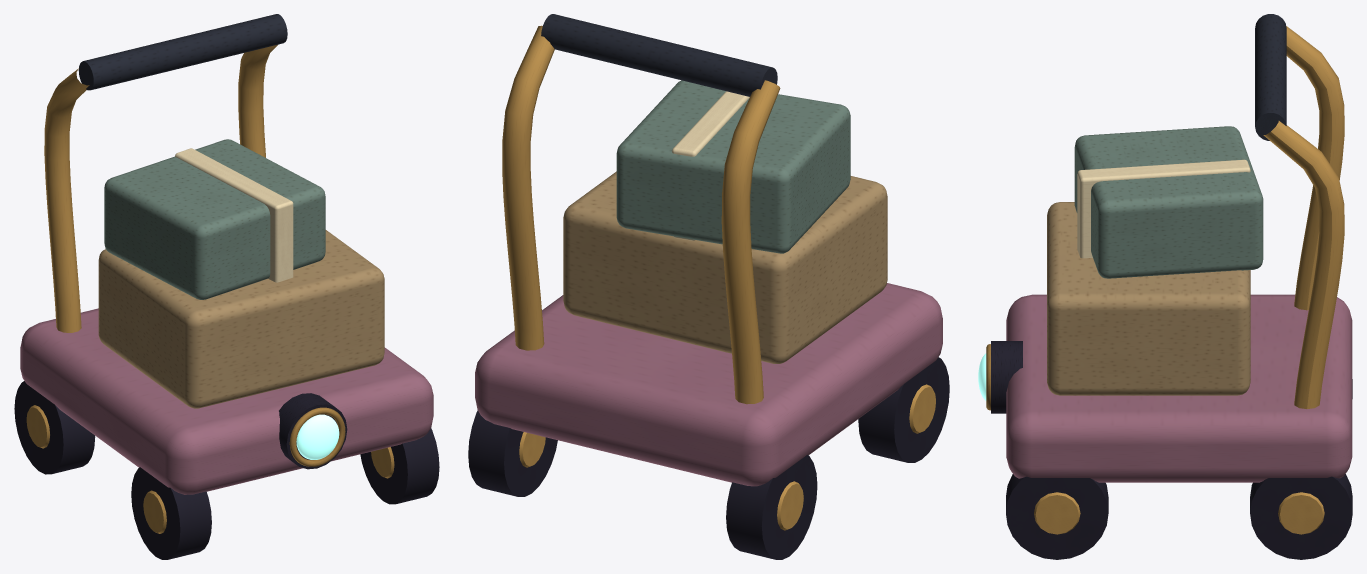
File: dolly.glb
3 renders of one model, left to right at view 1: azimuth 30°, elevation 25°; view 2: azimuth 150°, elevation 25°; view 3: azimuth 270°, elevation 25°, orthographic. The views are drawn at different scales.
Parts seen in each view (by area): view 1: Parcel deck, Lower parcel, Upper parcel, Rubber wheel (×3), Cart handle (×2), Push bar, Strap, Wheel hub (×3), Barrel, Optical glass, Lens bezel; view 2: Parcel deck, Lower parcel, Upper parcel, Cart handle (×2), Rubber wheel (×3), Push bar, Wheel hub (×3), Strap; view 3: Parcel deck, Lower parcel, Upper parcel, Cart handle (×2), Rubber wheel (×2), Push bar, Strap, Wheel hub (×2), Barrel.
Part boxes in pixels (box(x1,y1,x2,y2)): Parcel deck: box(20, 308, 433, 494); Lower parcel: box(98, 230, 384, 408); Upper parcel: box(104, 139, 325, 299); Rubber wheel (×3): box(14, 381, 439, 559); Cart handle (×2): box(44, 44, 277, 332); Push bar: box(78, 14, 287, 90); Strap: box(175, 148, 293, 282); Wheel hub (×3): box(26, 405, 394, 533); Barrel: box(279, 393, 347, 469); Optical glass: box(296, 414, 339, 459); Lens bezel: box(289, 407, 345, 466); Parcel deck: box(475, 283, 942, 486); Lower parcel: box(563, 171, 887, 363); Upper parcel: box(616, 80, 850, 253); Cart handle (×2): box(502, 25, 780, 404); Rubber wheel (×3): box(468, 357, 949, 559); Push bar: box(541, 14, 777, 96); Wheel hub (×3): box(519, 384, 935, 530); Strap: box(672, 91, 749, 240); Parcel deck: box(1006, 294, 1352, 482); Lower parcel: box(1047, 202, 1250, 395); Upper parcel: box(1074, 126, 1263, 278); Cart handle (×2): box(1263, 26, 1344, 408); Rubber wheel (×2): box(1006, 474, 1352, 559); Push bar: box(1255, 14, 1286, 140); Strap: box(1077, 159, 1250, 258); Wheel hub (×2): box(1034, 492, 1324, 534); Barrel: box(991, 341, 1022, 413).
Size of the model in its own units: 0.63 by 0.9335 by 0.7363.
10 materials, 9 textured.
